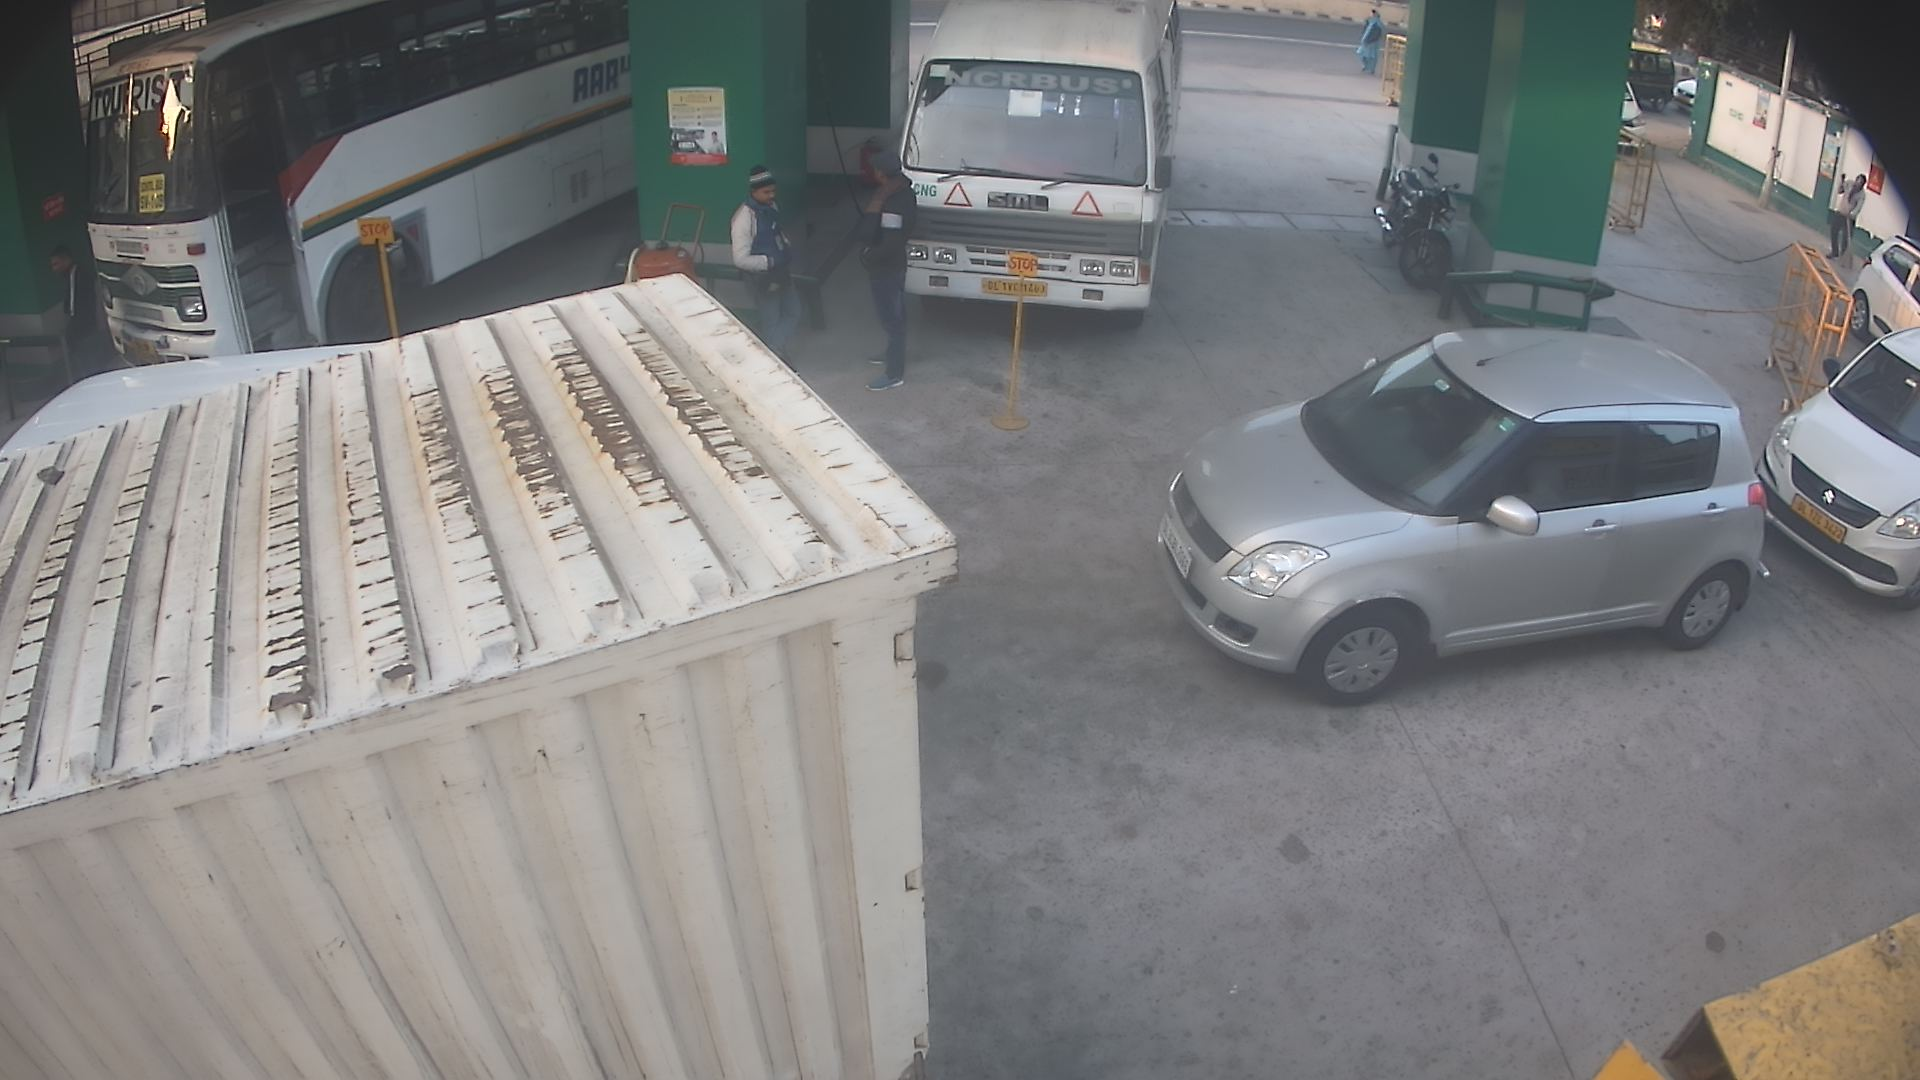Bike: (1352, 138, 1480, 306)
Car: (1133, 301, 1791, 723), (1737, 293, 1917, 634), (1813, 218, 1917, 371), (1611, 36, 1683, 117), (1606, 69, 1656, 170), (1663, 57, 1712, 132)
HMV: (1, 248, 1004, 1077), (36, 1, 661, 410), (847, 0, 1222, 342)
Others Other: (989, 248, 1038, 438), (357, 214, 404, 342)
